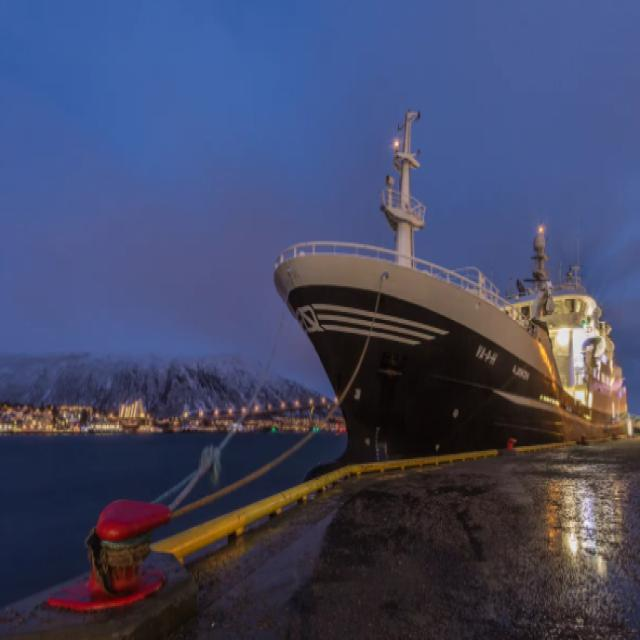passenger ship: (280, 82, 640, 451)
